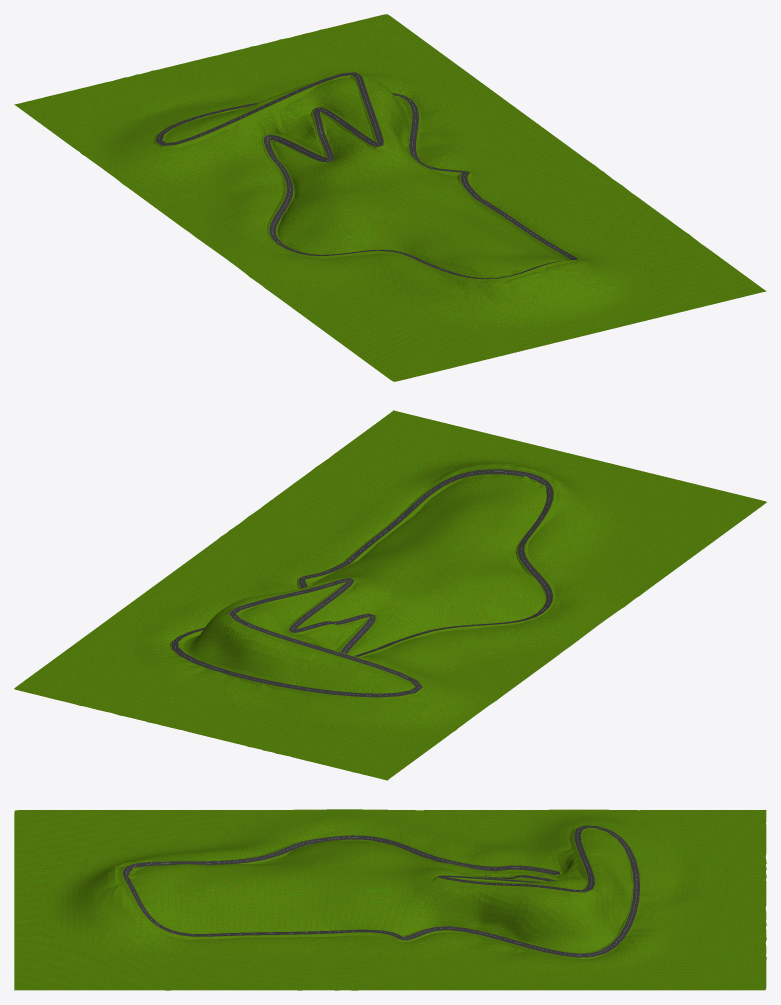
File: circuit1.obj
3 views of the same model, one above another, from view 1: azimuth 30°, elevation 25°; view 2: azimuth 150°, elevation 25°; view 3: azimuth 270°, elevation 25° (orthographic).
Visible parts, largest first — view 1: Plane.002, Plane.001, Plane; view 2: Plane.002, Plane, Plane.001; view 3: Plane.002, Plane, Plane.001.
Boxes of the visible parts, left/top/right/bottom form: Plane.002: left=14, top=14, right=766, bottom=381; Plane.001: left=154, top=72, right=580, bottom=281; Plane: left=156, top=72, right=577, bottom=279; Plane.002: left=14, top=410, right=766, bottom=780; Plane: left=171, top=469, right=553, bottom=697; Plane.001: left=170, top=467, right=558, bottom=699; Plane.002: left=14, top=809, right=766, bottom=990; Plane: left=122, top=825, right=639, bottom=957; Plane.001: left=117, top=825, right=642, bottom=959.
Size of the model in its own units: 1002 by 116 by 1765.
Materials: 3 (2 with a texture image).
